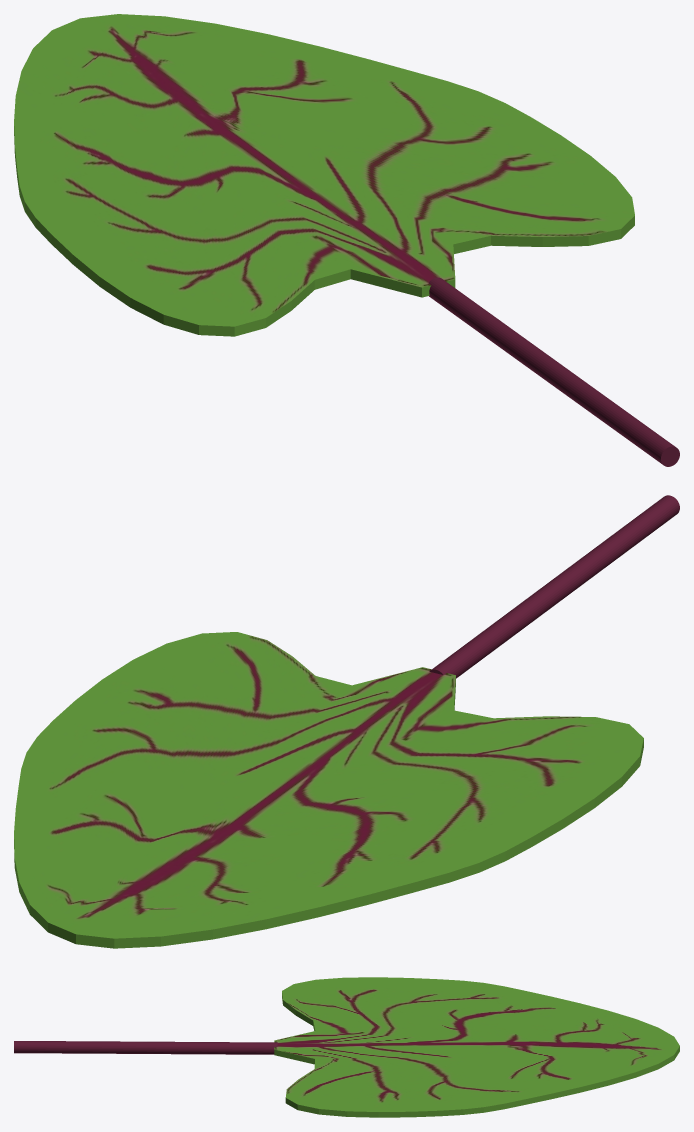
The model's file is Beet_leaf.fbx.
3 renders of one model, top to bottom at view 1: azimuth 30°, elevation 25°; view 2: azimuth 150°, elevation 25°; view 3: azimuth 270°, elevation 25°, orthographic. The views are drawn at different scales.
Visible parts, largest first — view 1: Cylinder.003, Cylinder.002; view 2: Cylinder.003, Cylinder.002; view 3: Cylinder.003, Cylinder.002.
Boxes of the visible parts, x1=… form: Cylinder.003: x1=14, y1=14, x2=634, y2=336; Cylinder.002: x1=429, y1=277, x2=679, y2=466; Cylinder.003: x1=14, y1=632, x2=643, y2=948; Cylinder.002: x1=429, y1=495, x2=679, y2=678; Cylinder.003: x1=274, y1=977, x2=679, y2=1117; Cylinder.002: x1=14, y1=1041, x2=277, y2=1054.
Bounding box in the file's own units: 51.6 × 2.29 × 108.
